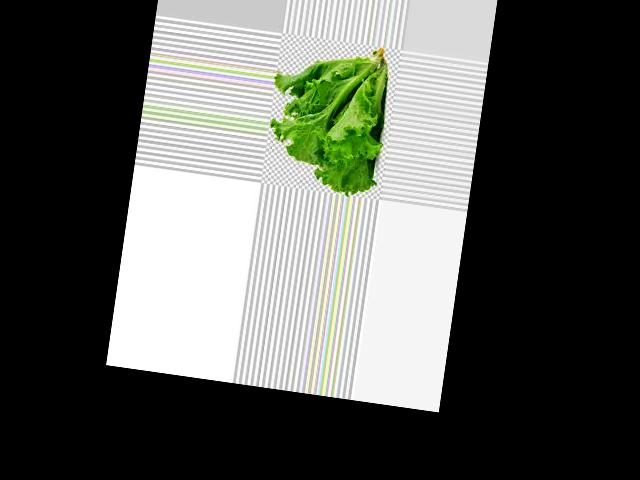lettuce: (274, 71, 401, 182)
